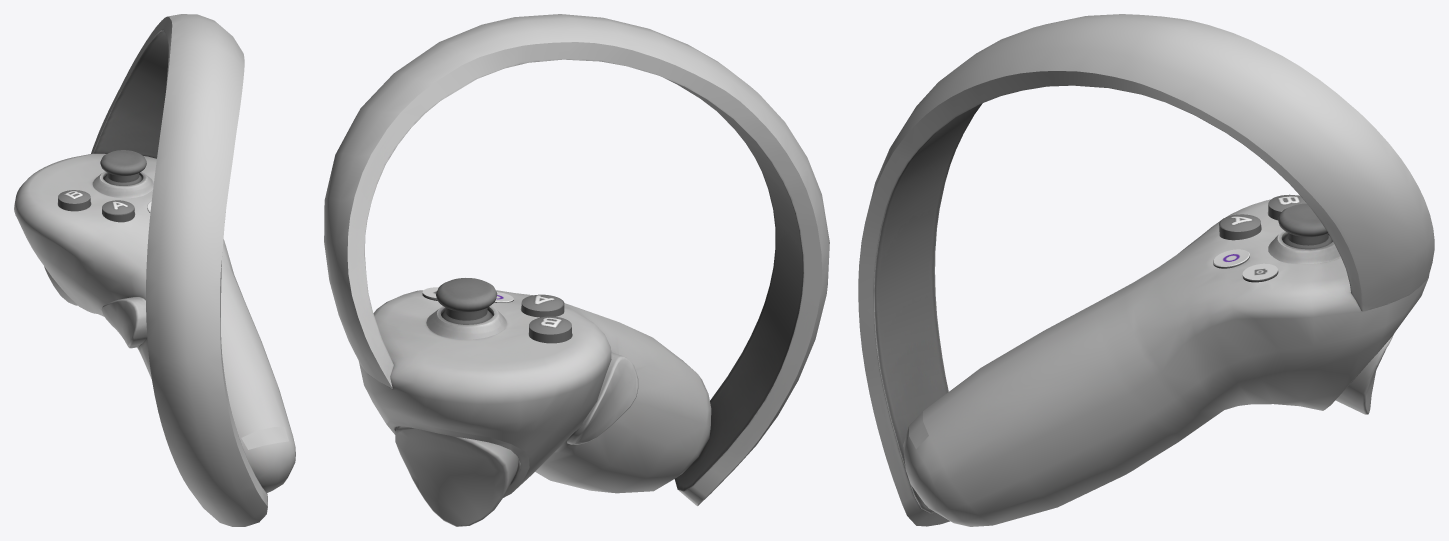
File: right.glb
3 renders of one model, left to right at view 1: azimuth 30°, elevation 25°; view 2: azimuth 150°, elevation 25°; view 3: azimuth 270°, elevation 25°, orthographic. The views are drawn at different scales.
Visible parts, largest first — view 1: body, grip, joystick, Power, a_button, b_button; view 2: body, trigger, grip, joystick, b_button, a_button; view 3: body, joystick, trigger, a_button.
Boxes of the visible parts, box(x1,y1,x2,y2) form: body: box(14, 14, 295, 526); grip: box(101, 297, 147, 348); joystick: box(100, 150, 146, 185); Power: box(241, 427, 288, 449); a_button: box(102, 200, 134, 222); b_button: box(58, 190, 90, 211); body: box(324, 14, 829, 506); trigger: box(395, 426, 518, 526); grip: box(567, 352, 638, 444); joystick: box(436, 278, 497, 324); b_button: box(529, 316, 571, 343); a_button: box(521, 294, 564, 317); body: box(858, 14, 1434, 526); joystick: box(1278, 203, 1332, 249); trigger: box(1335, 335, 1393, 414); a_button: box(1219, 214, 1261, 240).
Bounding box in the file's own units: 0.0744 × 0.1341 × 0.1315.
2 materials, 1 textured.
